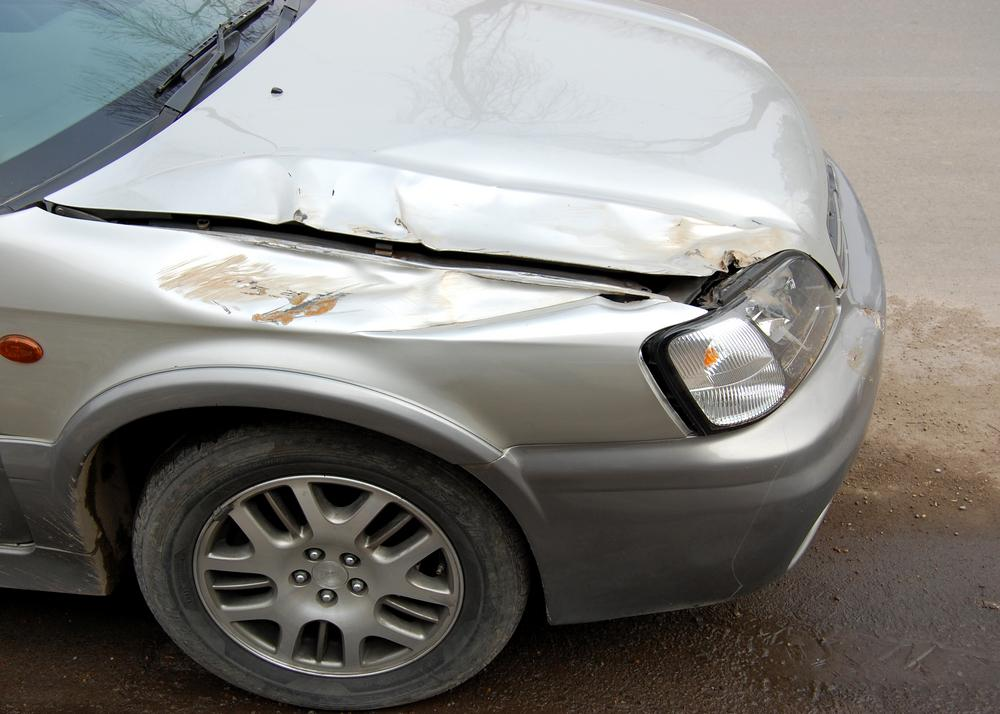dent: (126, 130, 794, 274), (155, 240, 589, 334)
